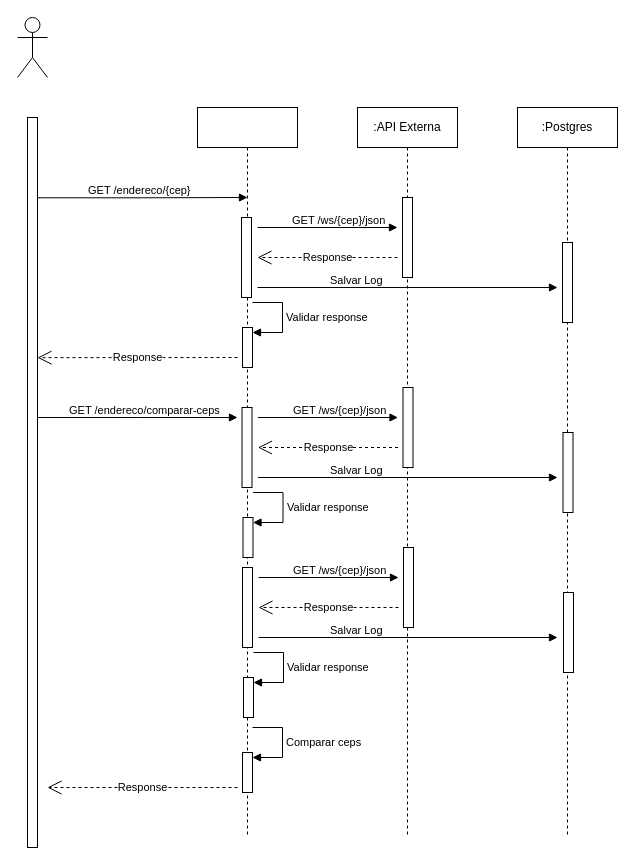
Some shapes in this 635 by 865 pixel diagram are drawn without their labels. Each missing label, with the centre of its shape:
":API" goes at pixel 247 472.
"Actor" goes at pixel 32 47.
